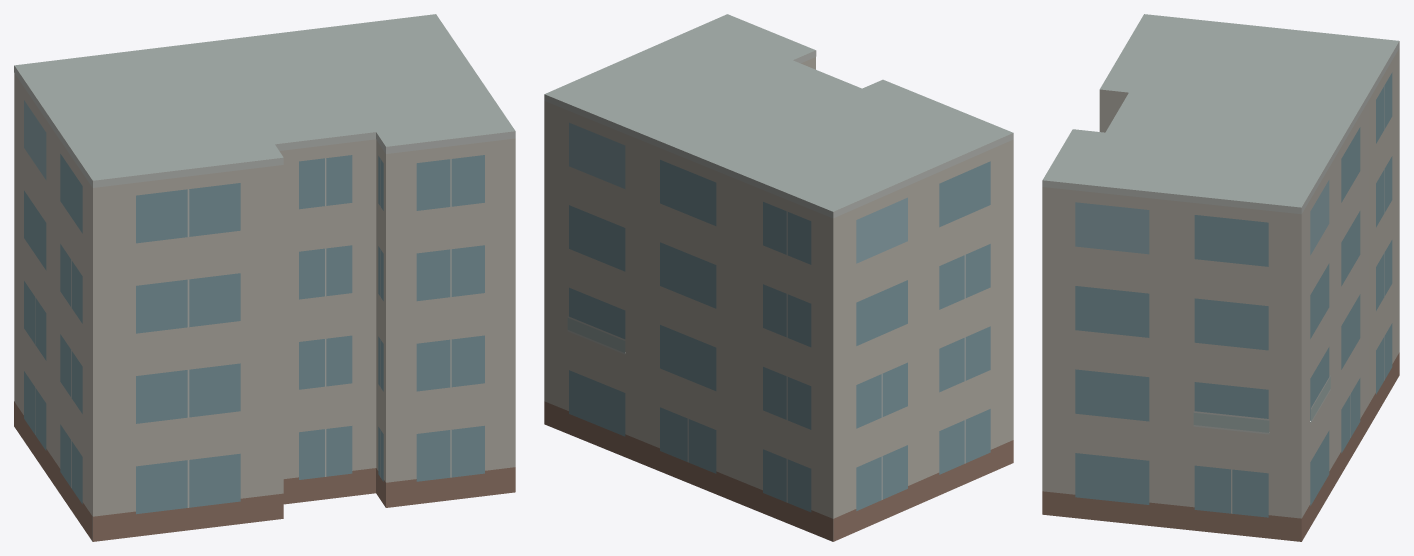
Rendered from residential-b47aa5ae-1f89-497e-9421-d3c5018f79c0.glb.
3 renders of one model, left to right at view 1: azimuth 30°, elevation 25°; view 2: azimuth 150°, elevation 25°; view 3: azimuth 270°, elevation 25°, orthographic. The views are drawn at different scales.
Parts seen in each view (by area): view 1: residential-b47aa5ae-1f89-497e-9421-d3c5018f79c0.tmp; view 2: residential-b47aa5ae-1f89-497e-9421-d3c5018f79c0.tmp; view 3: residential-b47aa5ae-1f89-497e-9421-d3c5018f79c0.tmp.
Part boxes in pixels (bbox=[...]): residential-b47aa5ae-1f89-497e-9421-d3c5018f79c0.tmp: bbox=[14, 14, 515, 541]; residential-b47aa5ae-1f89-497e-9421-d3c5018f79c0.tmp: bbox=[544, 14, 1013, 541]; residential-b47aa5ae-1f89-497e-9421-d3c5018f79c0.tmp: bbox=[1042, 14, 1399, 541].
Bounding box in the file's own units: 15.16 × 12.2 × 11.82.
